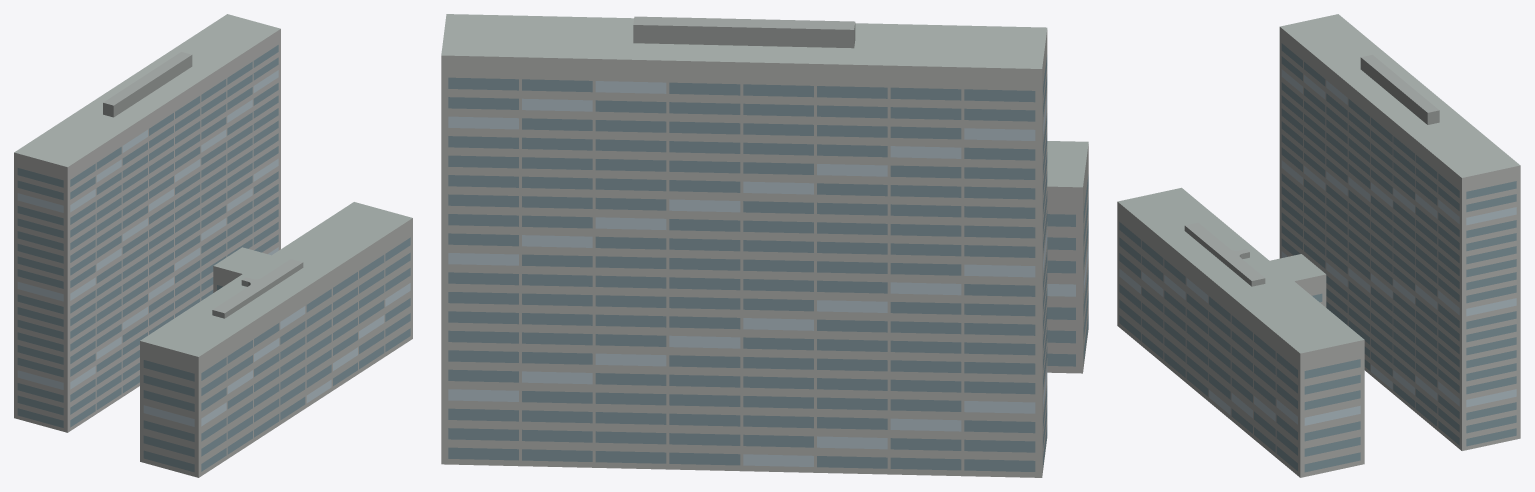
Rendered from apt-a13671203.glb.
3 renders of one model, left to right at view 1: azimuth 30°, elevation 25°; view 2: azimuth 150°, elevation 25°; view 3: azimuth 270°, elevation 25°, orthographic. The views are drawn at different scales.
Visible parts, largest first — view 1: apt-a13671203; view 2: apt-a13671203; view 3: apt-a13671203.
Boxes of the visible parts, x1=… form: apt-a13671203: x1=14, y1=14, x2=412, y2=477; apt-a13671203: x1=441, y1=14, x2=1088, y2=477; apt-a13671203: x1=1117, y1=14, x2=1520, y2=477.
Size of the model in its own units: 80.3 by 56 by 71.69.
